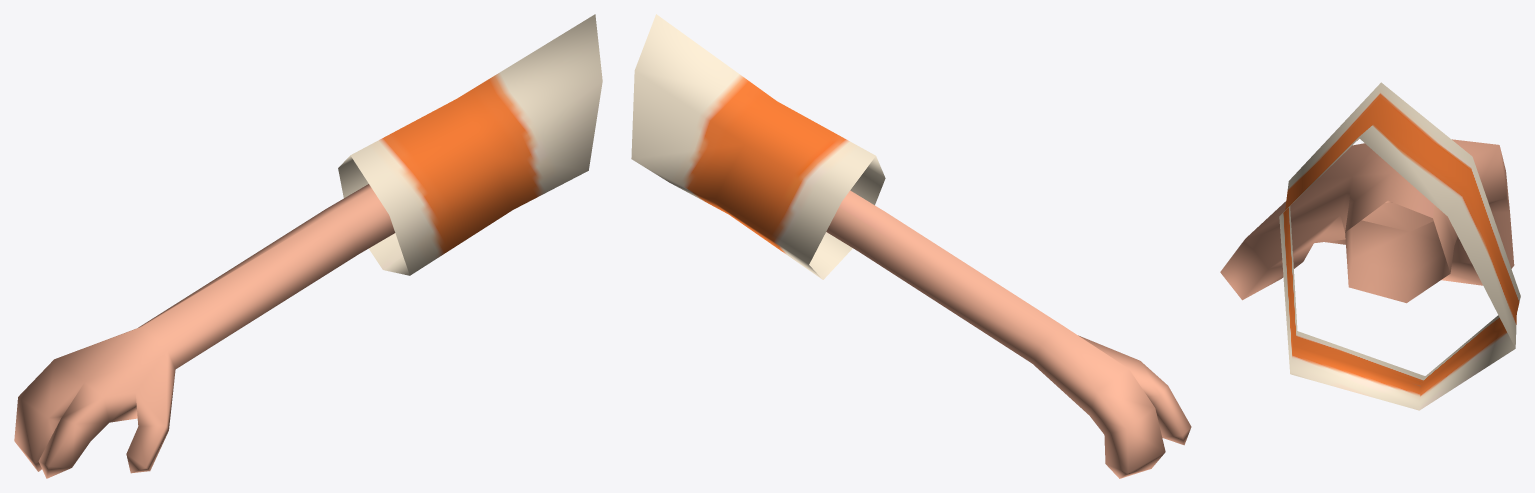
Rendered from phineas_brazoD.obj.
3 renders of one model, left to right at view 1: azimuth 30°, elevation 25°; view 2: azimuth 150°, elevation 25°; view 3: azimuth 270°, elevation 25°, orthographic. The views are drawn at different scales.
Visible parts, largest first — view 1: Phineas_Brazo_Der; view 2: Phineas_Brazo_Der; view 3: Phineas_Brazo_Der.
Boxes of the visible parts, x1,y1,x2,y2 form: Phineas_Brazo_Der: (14,14,602,478); Phineas_Brazo_Der: (631,14,1191,478); Phineas_Brazo_Der: (1220,82,1520,410).
Size of the model in its own units: 0.515 by 0.2985 by 0.1275.
